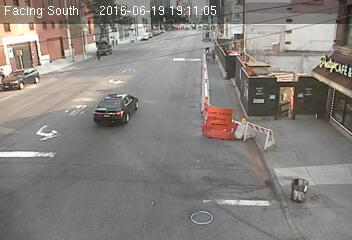neg: (285, 173, 309, 205), (233, 115, 250, 137), (92, 34, 109, 56), (141, 27, 151, 41)
pos: (200, 44, 214, 62), (209, 48, 219, 61)
